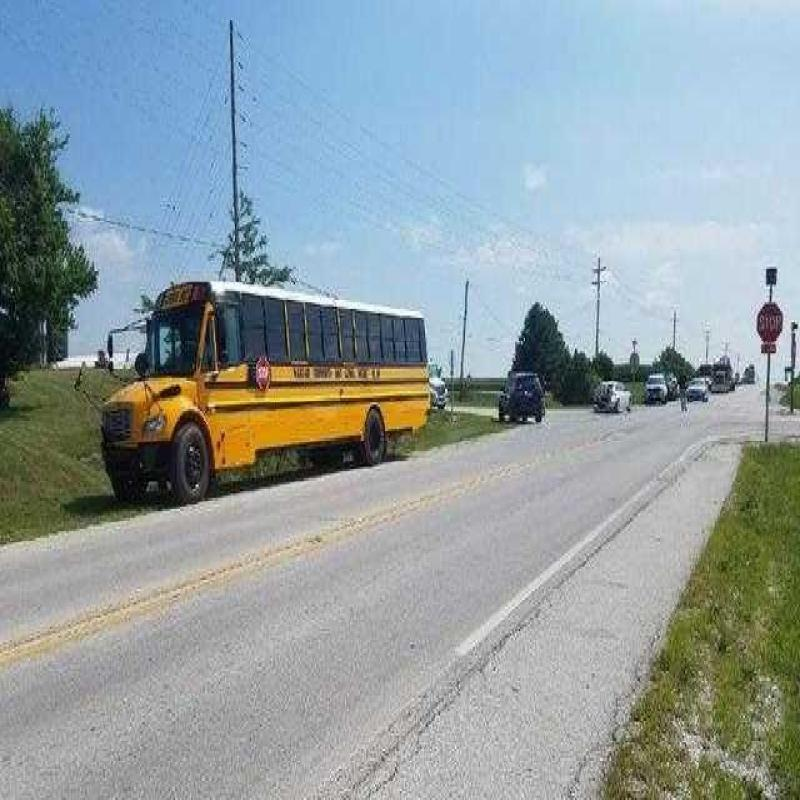bus: (102, 260, 451, 551)
